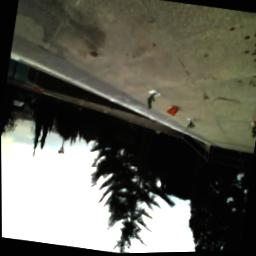herb: (145, 94, 158, 112), (187, 121, 197, 133), (250, 126, 256, 142)
wild: (166, 106, 180, 120)
